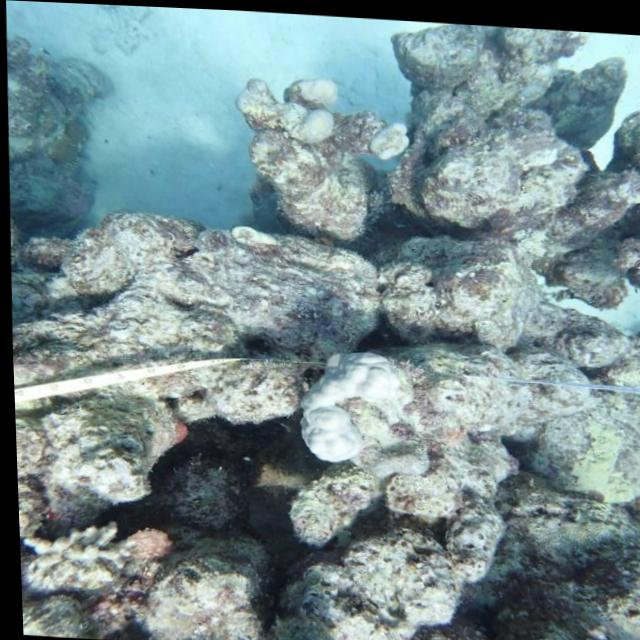Bleached Coral: (285, 333, 422, 469)
